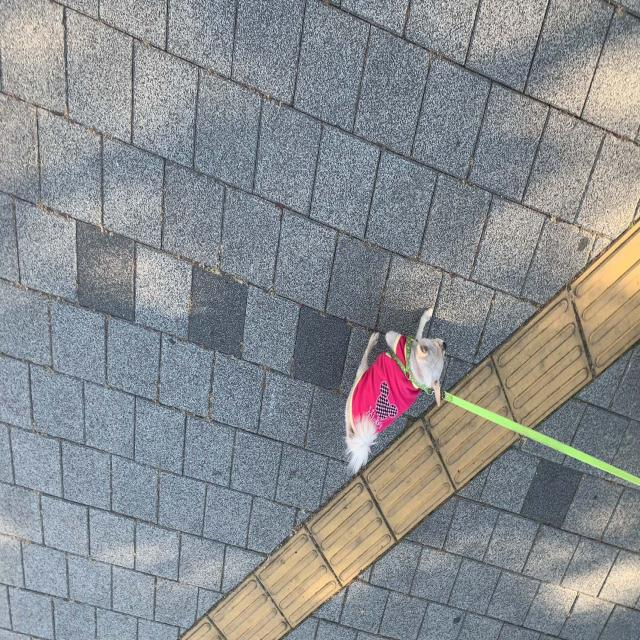Dog: (192, 164, 296, 336)
